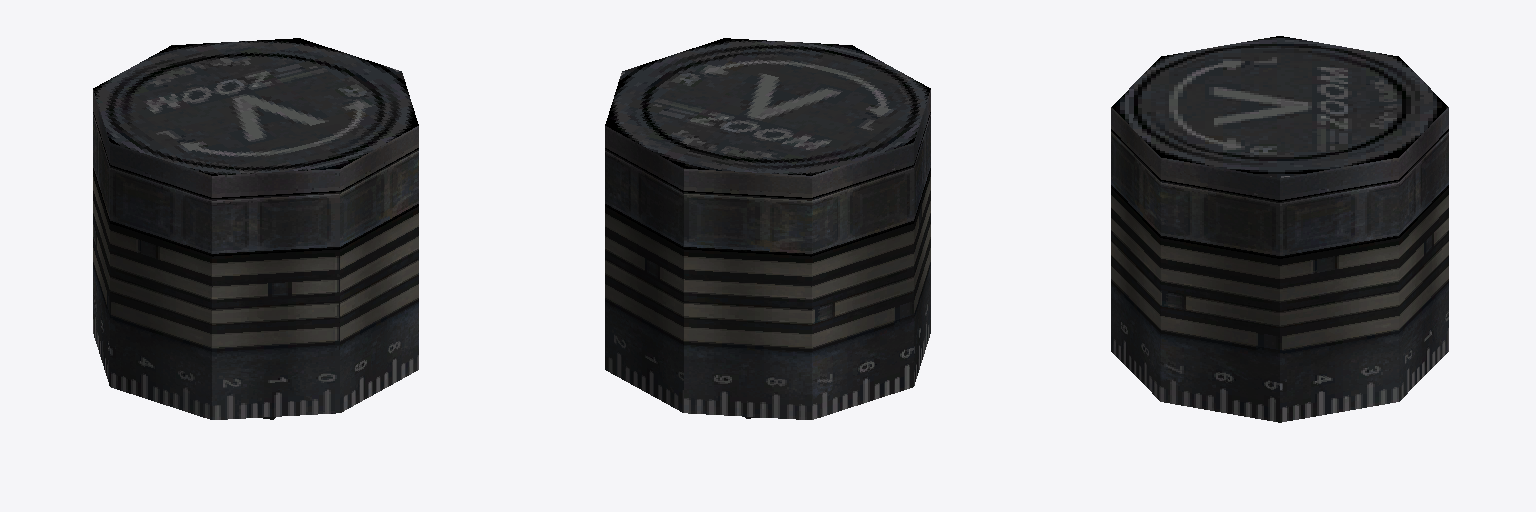
3 views of the same model, side by side, from view 1: azimuth 30°, elevation 25°; view 2: azimuth 150°, elevation 25°; view 3: azimuth 270°, elevation 25° (orthographic).
Parts seen in each view (by area): view 1: mtl_t6_attach_optic_vzoom_xpr50; view 2: mtl_t6_attach_optic_vzoom_xpr50; view 3: mtl_t6_attach_optic_vzoom_xpr50.
Boxes of the visible parts, x1,y1,x2,y2 form: mtl_t6_attach_optic_vzoom_xpr50: [93, 38, 418, 419]; mtl_t6_attach_optic_vzoom_xpr50: [605, 38, 930, 419]; mtl_t6_attach_optic_vzoom_xpr50: [1111, 36, 1448, 422].
Size of the model in its own units: 3.93 by 3.84 by 3.93.
1 materials, 1 textured.